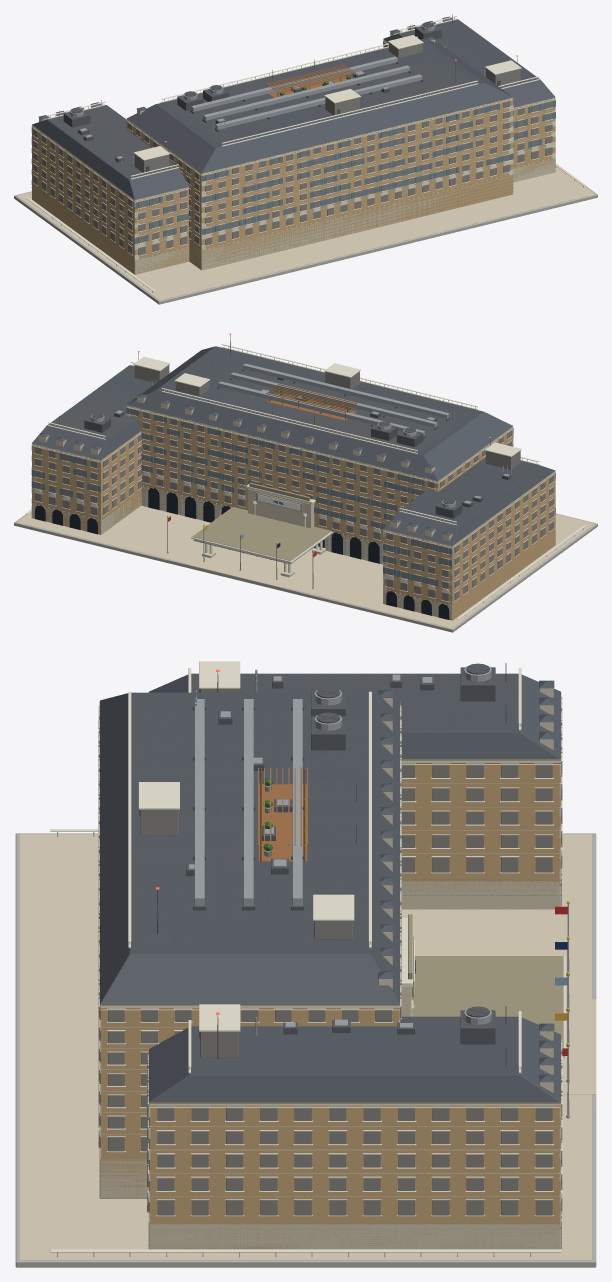
The model's file is VG_Hotel.fbx.
3 renders of one model, top to bottom at view 1: azimuth 30°, elevation 25°; view 2: azimuth 150°, elevation 25°; view 3: azimuth 270°, elevation 25°, orthographic. The views are drawn at different scales.
Visible parts, largest first — view 1: VG_Hotel_Mesh; view 2: VG_Hotel_Mesh; view 3: VG_Hotel_Mesh.
Boxes of the visible parts, left/top/right/bottom form: VG_Hotel_Mesh: left=14, top=14, right=597, bottom=304; VG_Hotel_Mesh: left=14, top=333, right=597, bottom=632; VG_Hotel_Mesh: left=15, top=661, right=596, bottom=1267.
Size of the model in its own units: 145 by 43.5 by 83.
